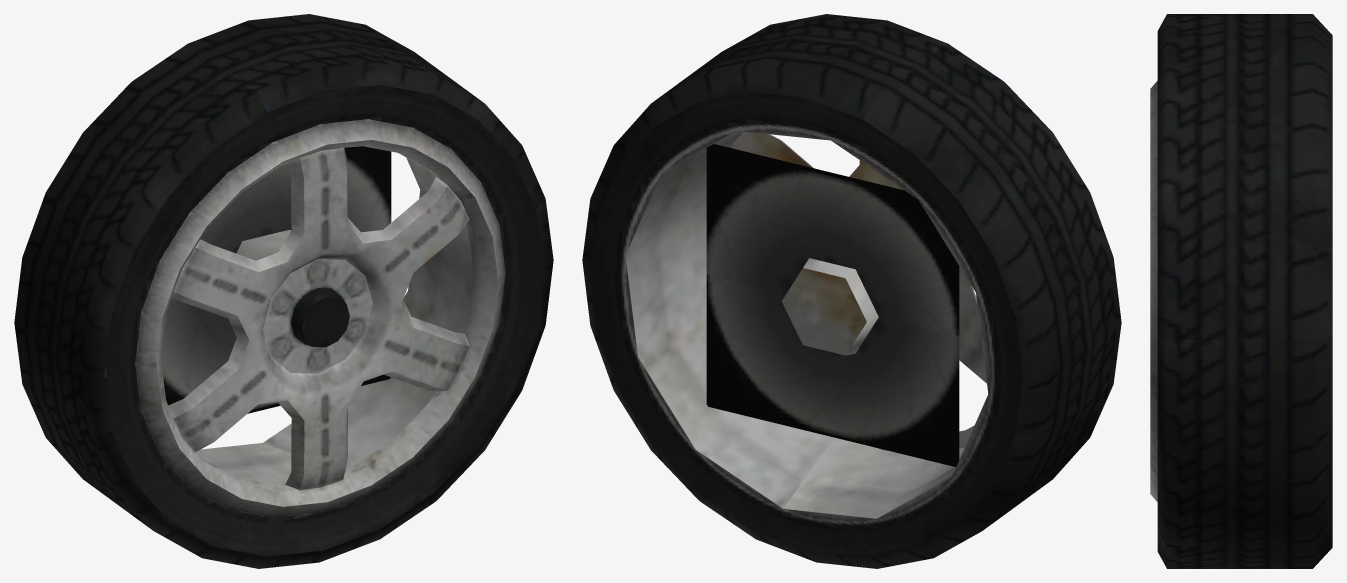
Rendered from V_A_ExoticMuscle_Wheel_9_SkeletalMesh3_SkeletalMesh_5.psk.glb.
3 views of the same model, side by side, from view 1: azimuth 30°, elevation 25°; view 2: azimuth 150°, elevation 25°; view 3: azimuth 270°, elevation 25° (orthographic). The views are drawn at different scales.
Size of the model in its own units: 72.3 by 72.3 by 23.69.
Materials: 1 (1 with a texture image).
